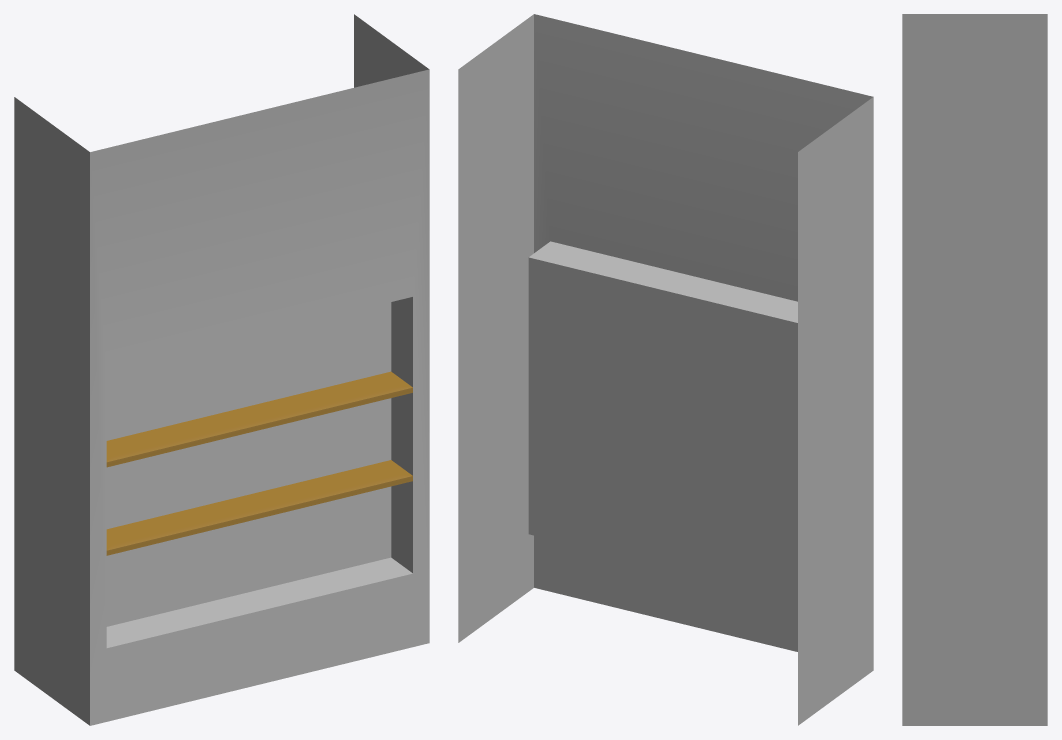
File: Rack.fbx
3 renders of one model, left to right at view 1: azimuth 30°, elevation 25°; view 2: azimuth 150°, elevation 25°; view 3: azimuth 270°, elevation 25°, orthographic. The views are drawn at different scales.
Visible parts, largest first — view 1: Rack; view 2: Rack; view 3: Rack.
Part boxes in pixels (x1,y1,x2,y2): Rack: (14, 14, 429, 725); Rack: (458, 14, 873, 725); Rack: (902, 14, 1047, 725).
Size of the model in its own units: 206 by 333 by 79.51.
Materials: 1 (1 with a texture image).
